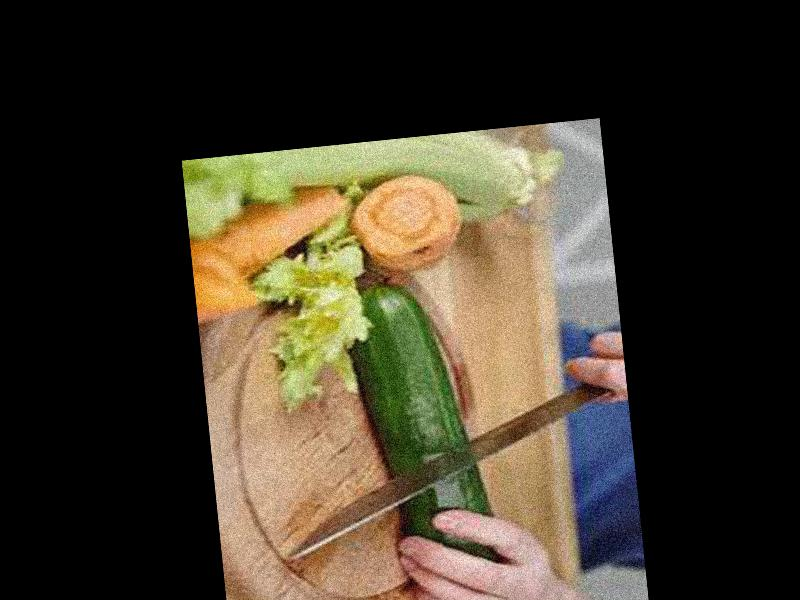Cucumber: (349, 274, 498, 573)
